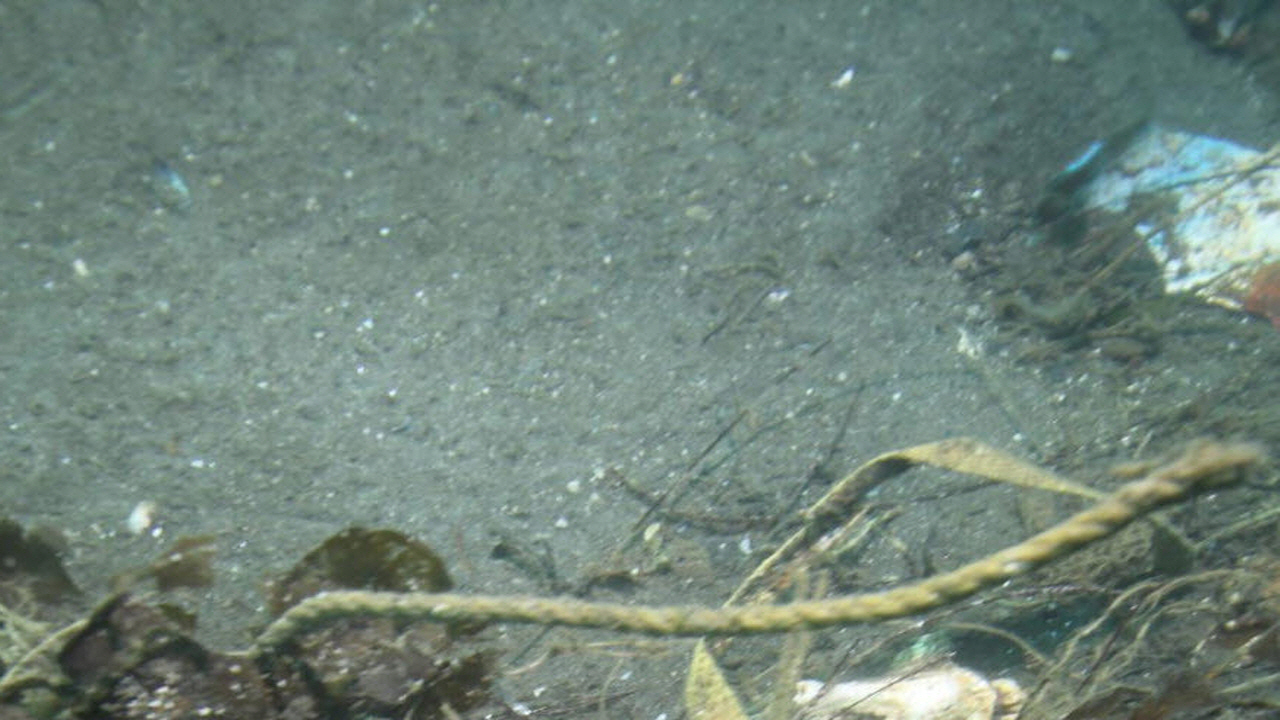rope: (224, 436, 1280, 662)
